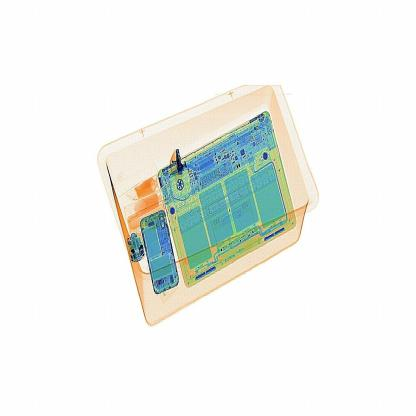pliers: (168, 142, 194, 185)
